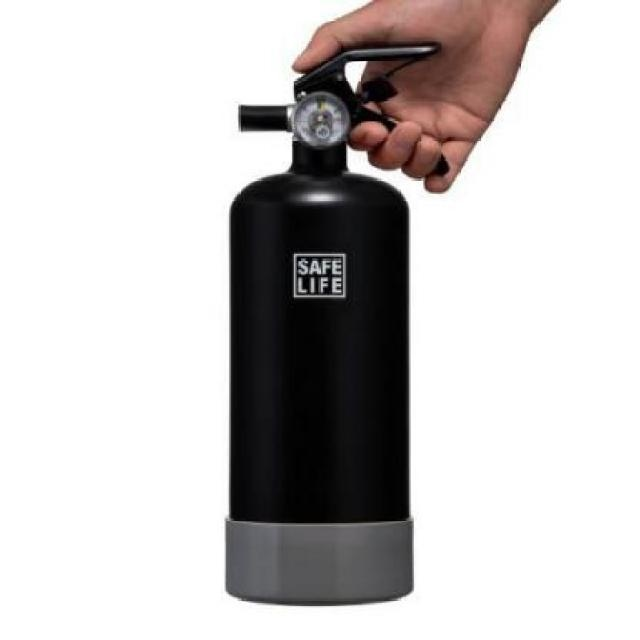fire extinguisher: (225, 42, 451, 607)
